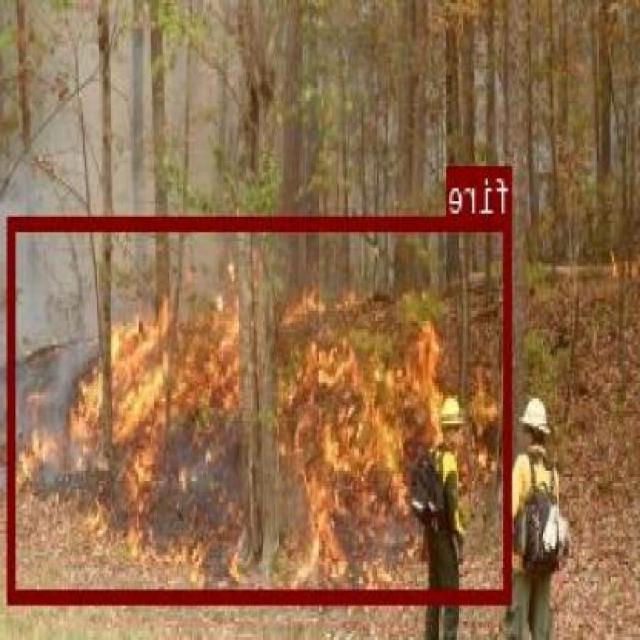Fire: (9, 214, 514, 600)
